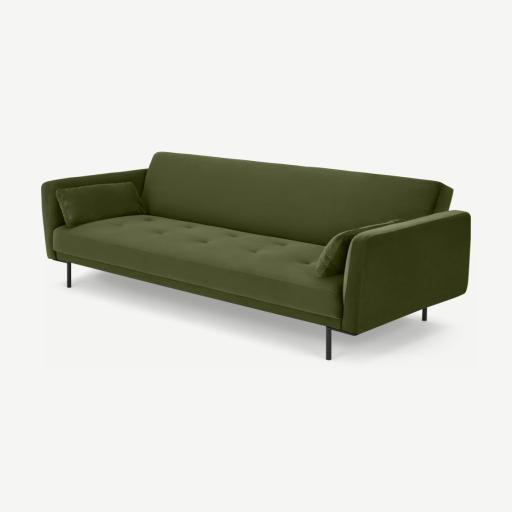back_cushion: (143, 152, 452, 245)
left_arm: (337, 210, 470, 334)
legs: (326, 327, 355, 360), (62, 262, 71, 288), (422, 308, 427, 321)
right_arm: (42, 169, 147, 258)
seat_cushion: (53, 215, 342, 319)
two-seater: (0, 0, 511, 512)
